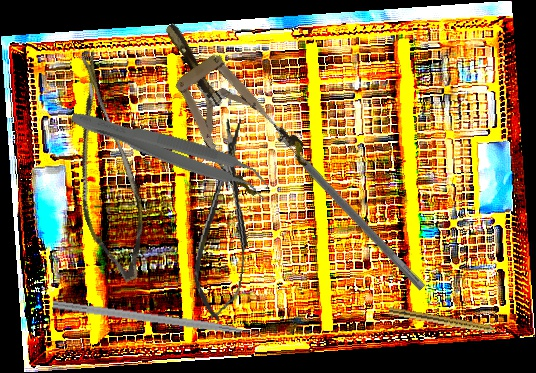Chopper: (50, 299, 272, 352)
Handpiece: (388, 306, 506, 338)
Micro Scissor: (27, 49, 179, 288), (188, 114, 264, 324)
Spatula Surgical: (272, 126, 433, 292)
Speculum: (136, 1, 315, 207)
Tissue Forceps: (65, 103, 275, 202)
